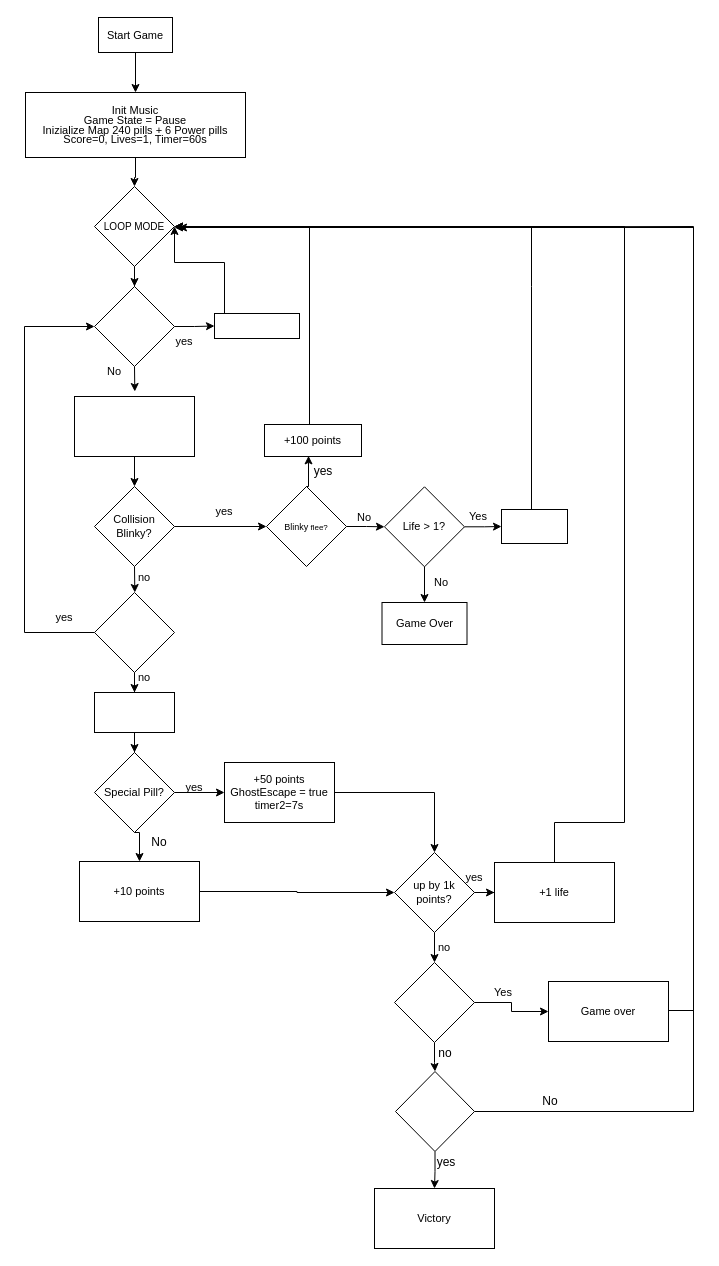
This 719x1266 diagram has some shape labels left out. Each missing label, with the centre of its shape:
- Joystick Read - Blinky's "chase" mode (A* algorithm): (x=134, y=426)
All pills eaten?: (x=434, y=1111)
Eat pill: (x=134, y=712)
Lost Life: (x=534, y=526)
PAUSED?: (x=134, y=326)
Stop move SHOW "Pause": (x=257, y=325)
timer1=0?: (x=434, y=1002)
Wall collision?: (x=134, y=632)
